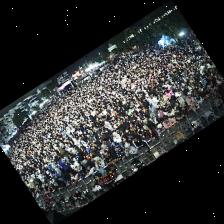person: (132, 136, 152, 155), (69, 160, 86, 178), (72, 150, 86, 166), (145, 125, 157, 141), (104, 151, 118, 164), (101, 145, 116, 157), (50, 171, 65, 183), (162, 116, 175, 129), (173, 107, 184, 121), (85, 162, 96, 176), (111, 132, 122, 145), (80, 147, 90, 161), (89, 150, 100, 162), (125, 144, 136, 156), (94, 157, 104, 170), (149, 113, 159, 126), (59, 154, 69, 167), (70, 172, 79, 186), (104, 128, 113, 142), (125, 128, 135, 140), (51, 165, 61, 176), (164, 100, 174, 111), (148, 104, 157, 116), (136, 124, 144, 137), (194, 93, 202, 106), (97, 131, 107, 141), (55, 179, 65, 189), (41, 185, 52, 194), (117, 145, 124, 159), (176, 95, 184, 107), (186, 93, 193, 106), (122, 137, 131, 147), (201, 88, 209, 99), (165, 87, 172, 99), (101, 140, 111, 148), (166, 107, 174, 116), (104, 122, 112, 131), (207, 86, 215, 95), (156, 124, 164, 133), (142, 119, 147, 131), (160, 96, 165, 107), (111, 143, 117, 152), (38, 188, 44, 196), (174, 102, 180, 109), (34, 190, 39, 198)
